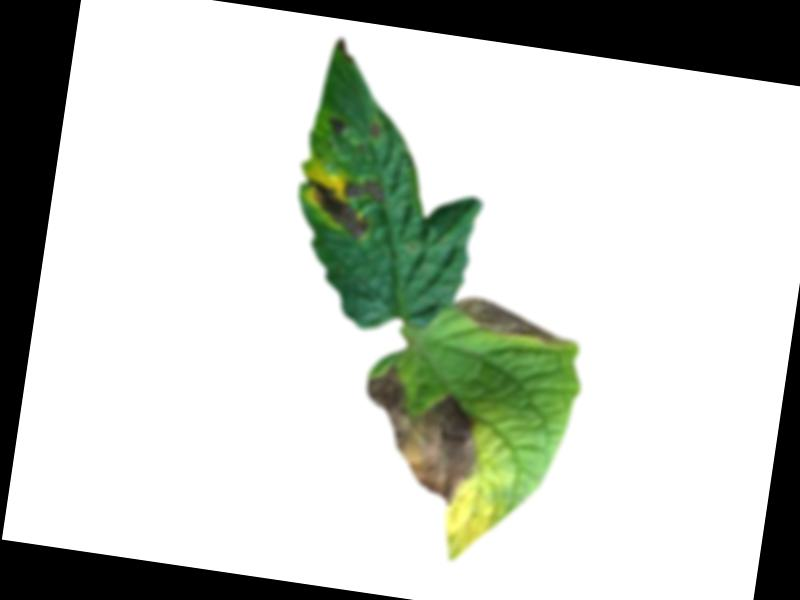Early_blight: (347, 359, 491, 510), (447, 293, 574, 350), (298, 171, 384, 243), (331, 38, 357, 65), (327, 117, 345, 137), (368, 120, 381, 140)
